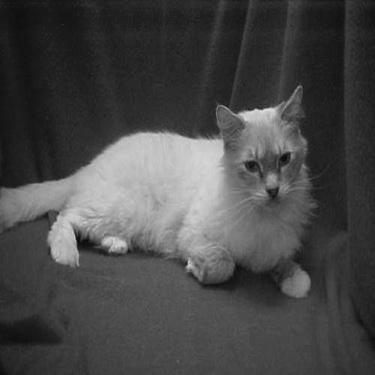cat: (6, 83, 315, 298)
